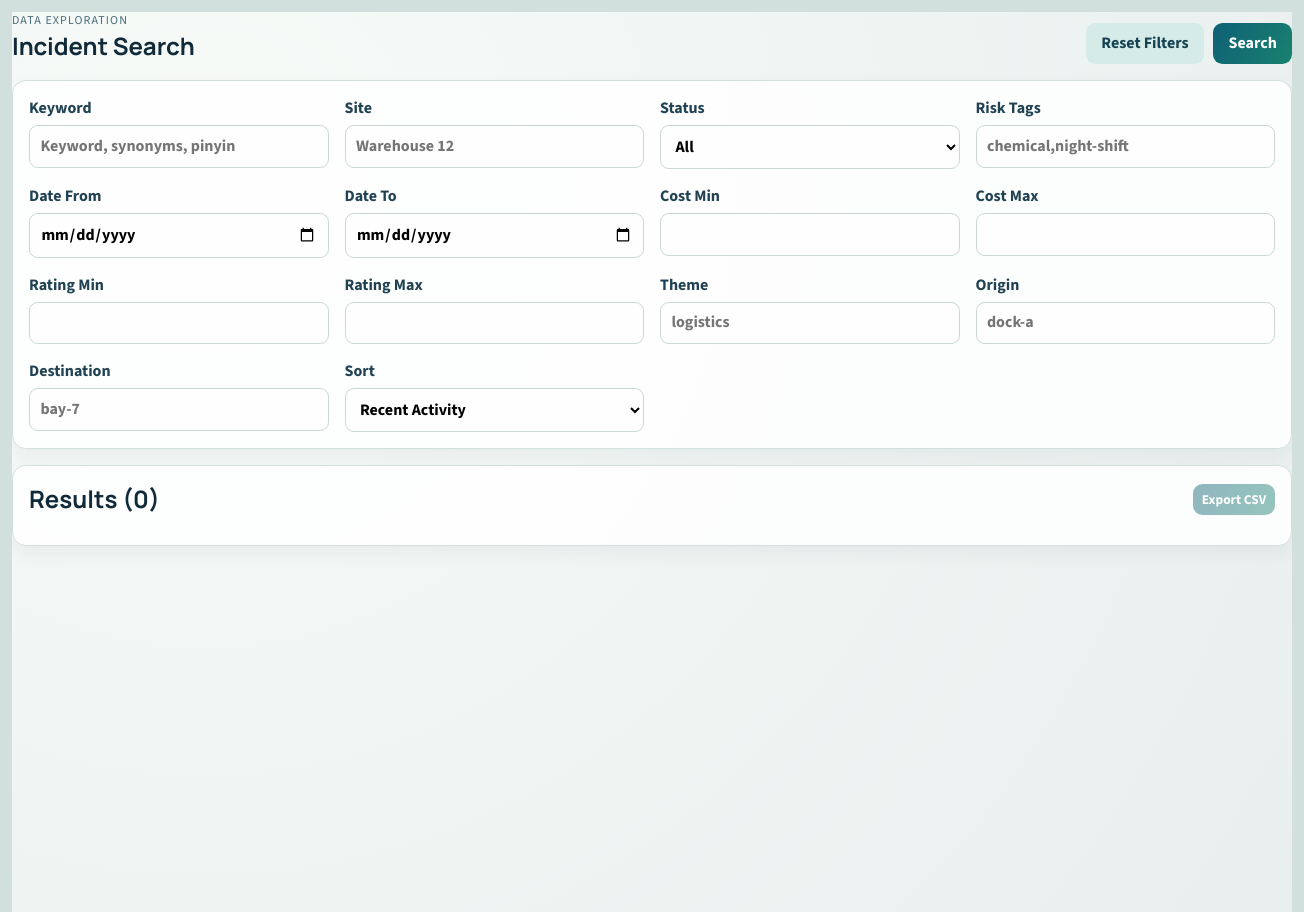
Search.vue › displays search results in a table
The width and height of the screenshot is (1304, 912).
Click the button "Search".
click(1253, 44)  # box [1213,23,1292,64]
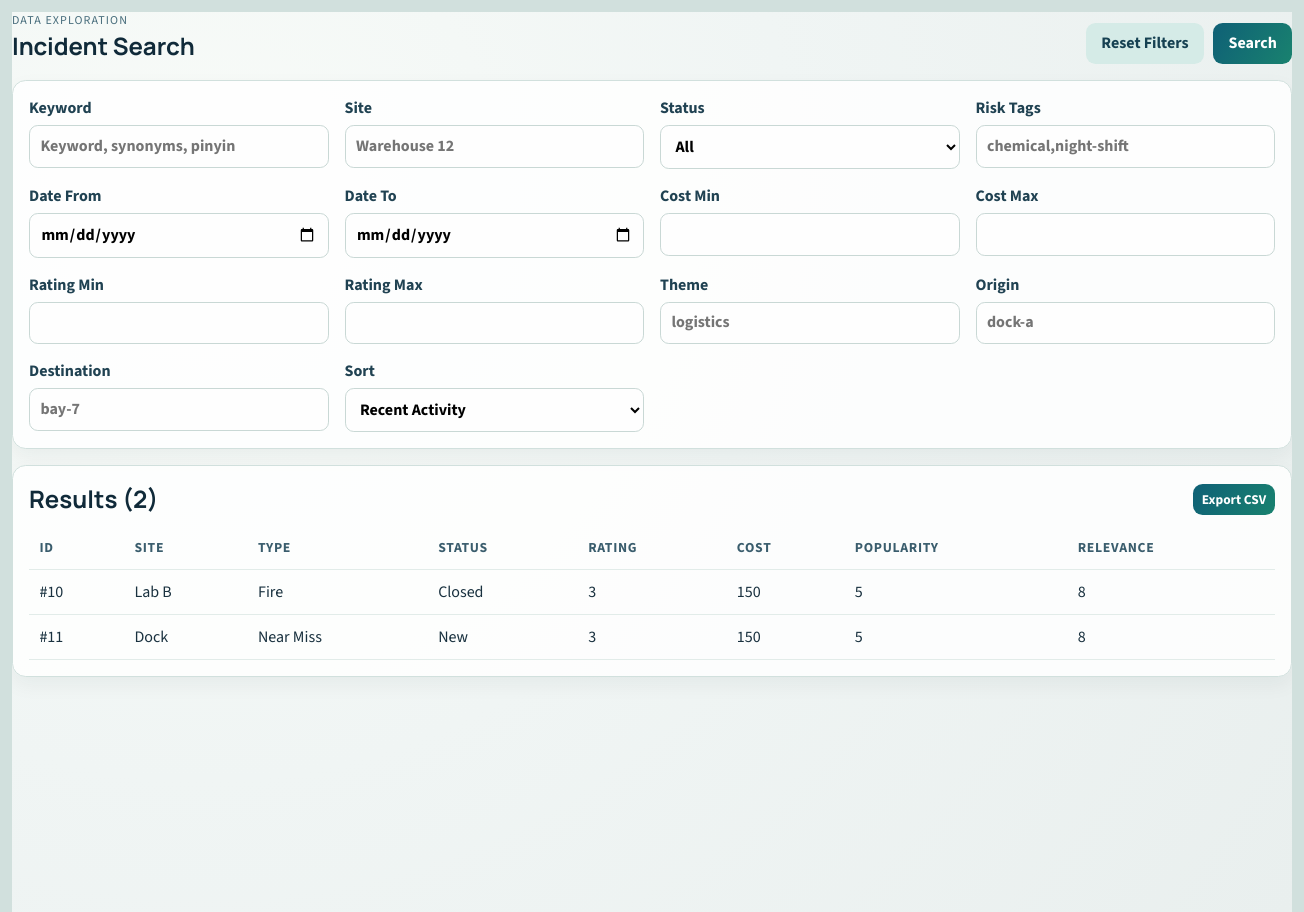
Expected: the text "#10" is shown, [29,570,124,615]
Expected: the text "Lab B" is shown, [124,570,248,615]
Expected: the text "#11" is shown, [29,615,124,660]
